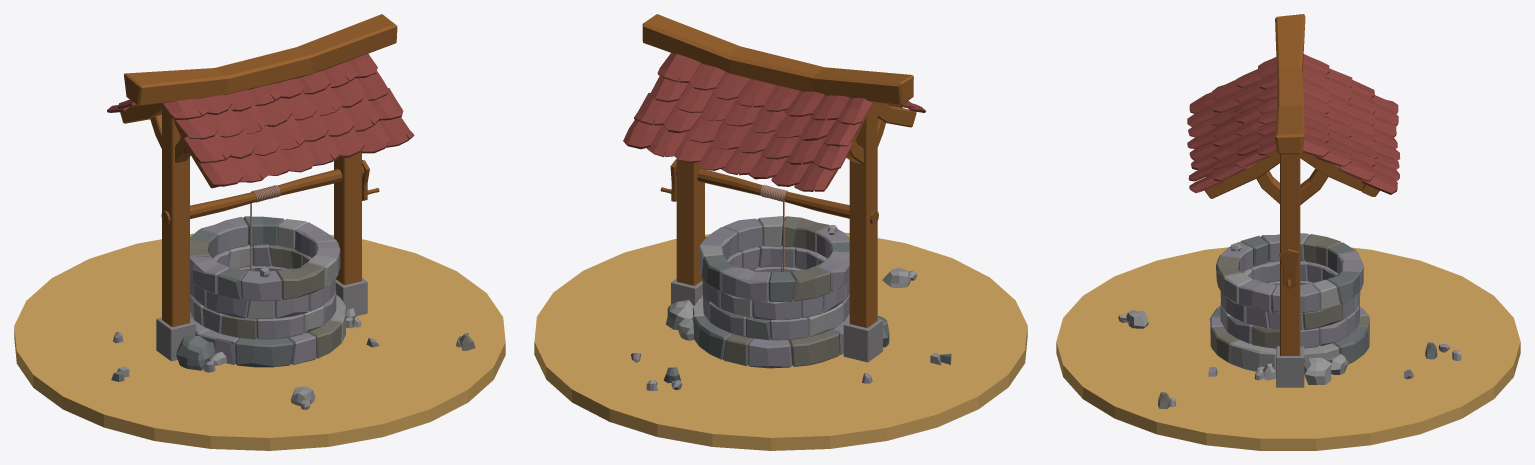
Rendered from Well.fbx.
3 renders of one model, left to right at view 1: azimuth 30°, elevation 25°; view 2: azimuth 150°, elevation 25°; view 3: azimuth 270°, elevation 25°, orthographic. The views are drawn at different scales.
Parts seen in each view (by area): view 1: Земля, Cube.006, Cube.005, Cube.020, Cube.021, Cylinder, Cube.052, Cube.085, Cube.086, Cube.079, Cube.035, Cube.078 (+44 smaller); view 2: Земля, Cube.006, Cube.005, Cube.020, Cube.021, Cylinder, Cube.045, Cube.079, Cube.044, Cube.085, Cube.077, Cube.046 (+49 smaller); view 3: Земля, Cube.006, Cube.020, Cube.051, Cube.014, Cube.021, Cube.083, Cube.046, Cube.011, Cube.077, Cube.084, Cube.080 (+18 smaller).
Boxes of the visible parts, bbox=[...] form: Земля: bbox=[14, 233, 505, 450]; Cube.006: bbox=[124, 14, 397, 105]; Cube.005: bbox=[162, 103, 189, 326]; Cube.020: bbox=[334, 152, 361, 284]; Cube.021: bbox=[156, 278, 367, 361]; Cylinder: bbox=[161, 165, 364, 224]; Cube.052: bbox=[235, 336, 293, 367]; Cube.085: bbox=[276, 262, 324, 299]; Cube.086: bbox=[241, 271, 281, 301]; Cube.079: bbox=[200, 216, 248, 254]; Cube.035: bbox=[176, 335, 215, 370]; Cube.078: bbox=[190, 256, 228, 294]; Земля: bbox=[534, 232, 1027, 450]; Cube.006: bbox=[642, 14, 913, 105]; Cube.005: bbox=[849, 102, 877, 327]; Cube.020: bbox=[676, 158, 704, 285]; Cube.021: bbox=[671, 278, 882, 362]; Cylinder: bbox=[675, 167, 878, 224]; Cube.045: bbox=[788, 330, 839, 366]; Cube.079: bbox=[722, 267, 770, 301]; Cube.044: bbox=[748, 338, 791, 368]; Cube.085: bbox=[781, 216, 829, 252]; Cube.077: bbox=[791, 266, 830, 301]; Cube.046: bbox=[693, 316, 732, 359]; Земля: bbox=[1056, 247, 1520, 450]; Cube.006: bbox=[1275, 14, 1305, 154]; Cube.020: bbox=[1280, 154, 1300, 355]; Cube.051: bbox=[1230, 340, 1276, 372]; Cube.014: bbox=[1204, 151, 1279, 198]; Cube.021: bbox=[1276, 346, 1304, 387]; Cube.083: bbox=[1239, 279, 1275, 312]; Cube.046: bbox=[1332, 326, 1368, 364]; Cube.011: bbox=[1300, 152, 1379, 196]; Cube.077: bbox=[1303, 234, 1341, 266]; Cube.084: bbox=[1271, 283, 1319, 312]; Cube.080: bbox=[1327, 271, 1360, 304].
Size of the model in its own units: 3850 by 2594 by 3878.
